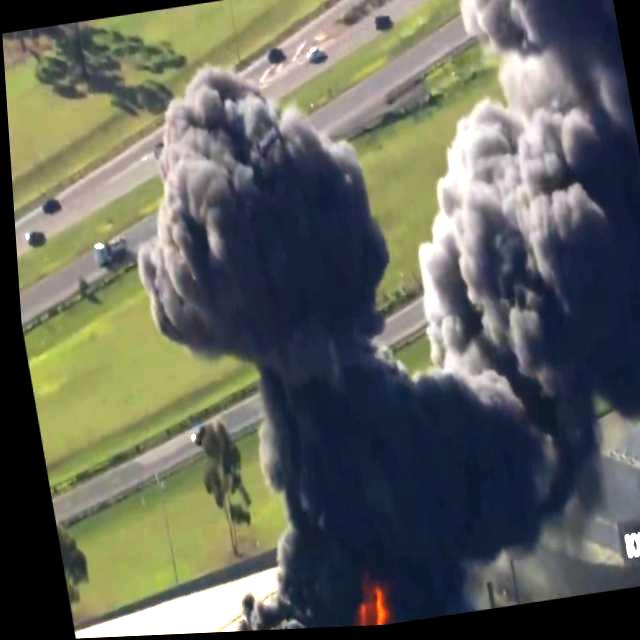fire: (242, 604, 390, 632)
